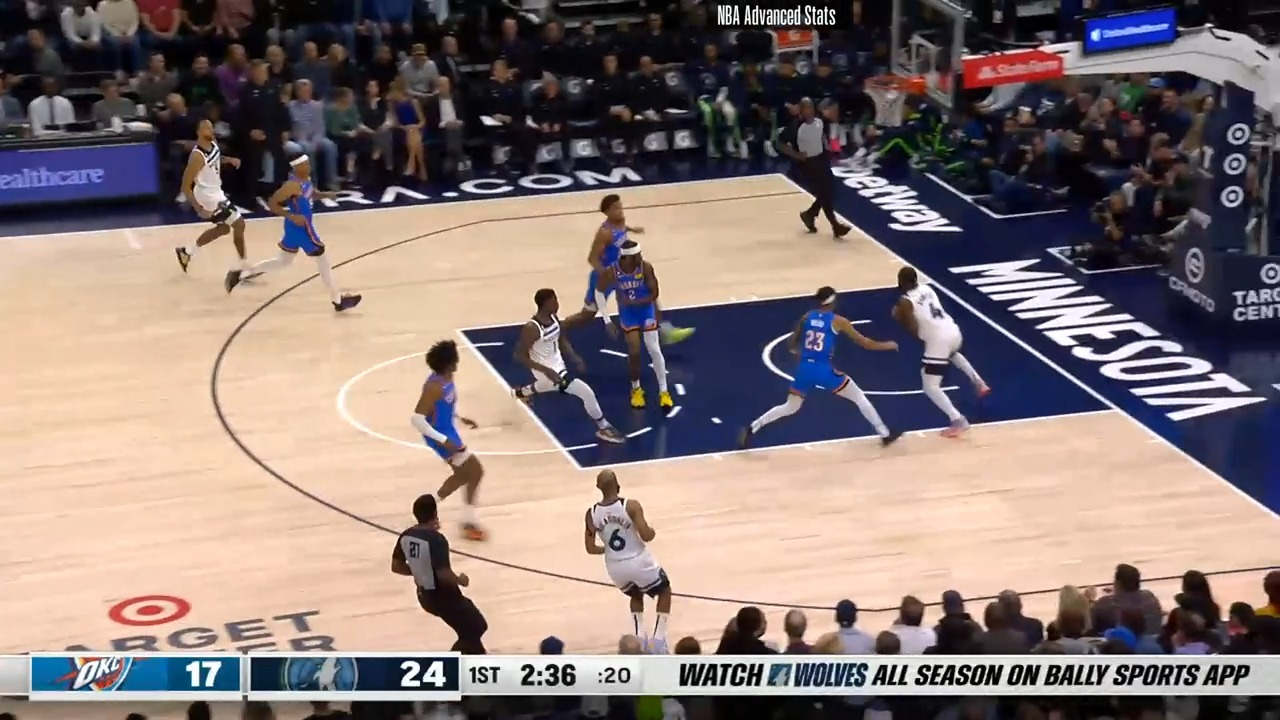net: (861, 68, 934, 129)
player: (745, 284, 903, 454), (227, 153, 358, 317), (890, 268, 997, 445), (405, 340, 493, 550), (577, 193, 695, 347), (577, 470, 675, 650), (514, 289, 619, 448), (603, 239, 688, 420), (176, 116, 257, 290)
referee: (392, 493, 493, 653), (776, 96, 851, 245)
